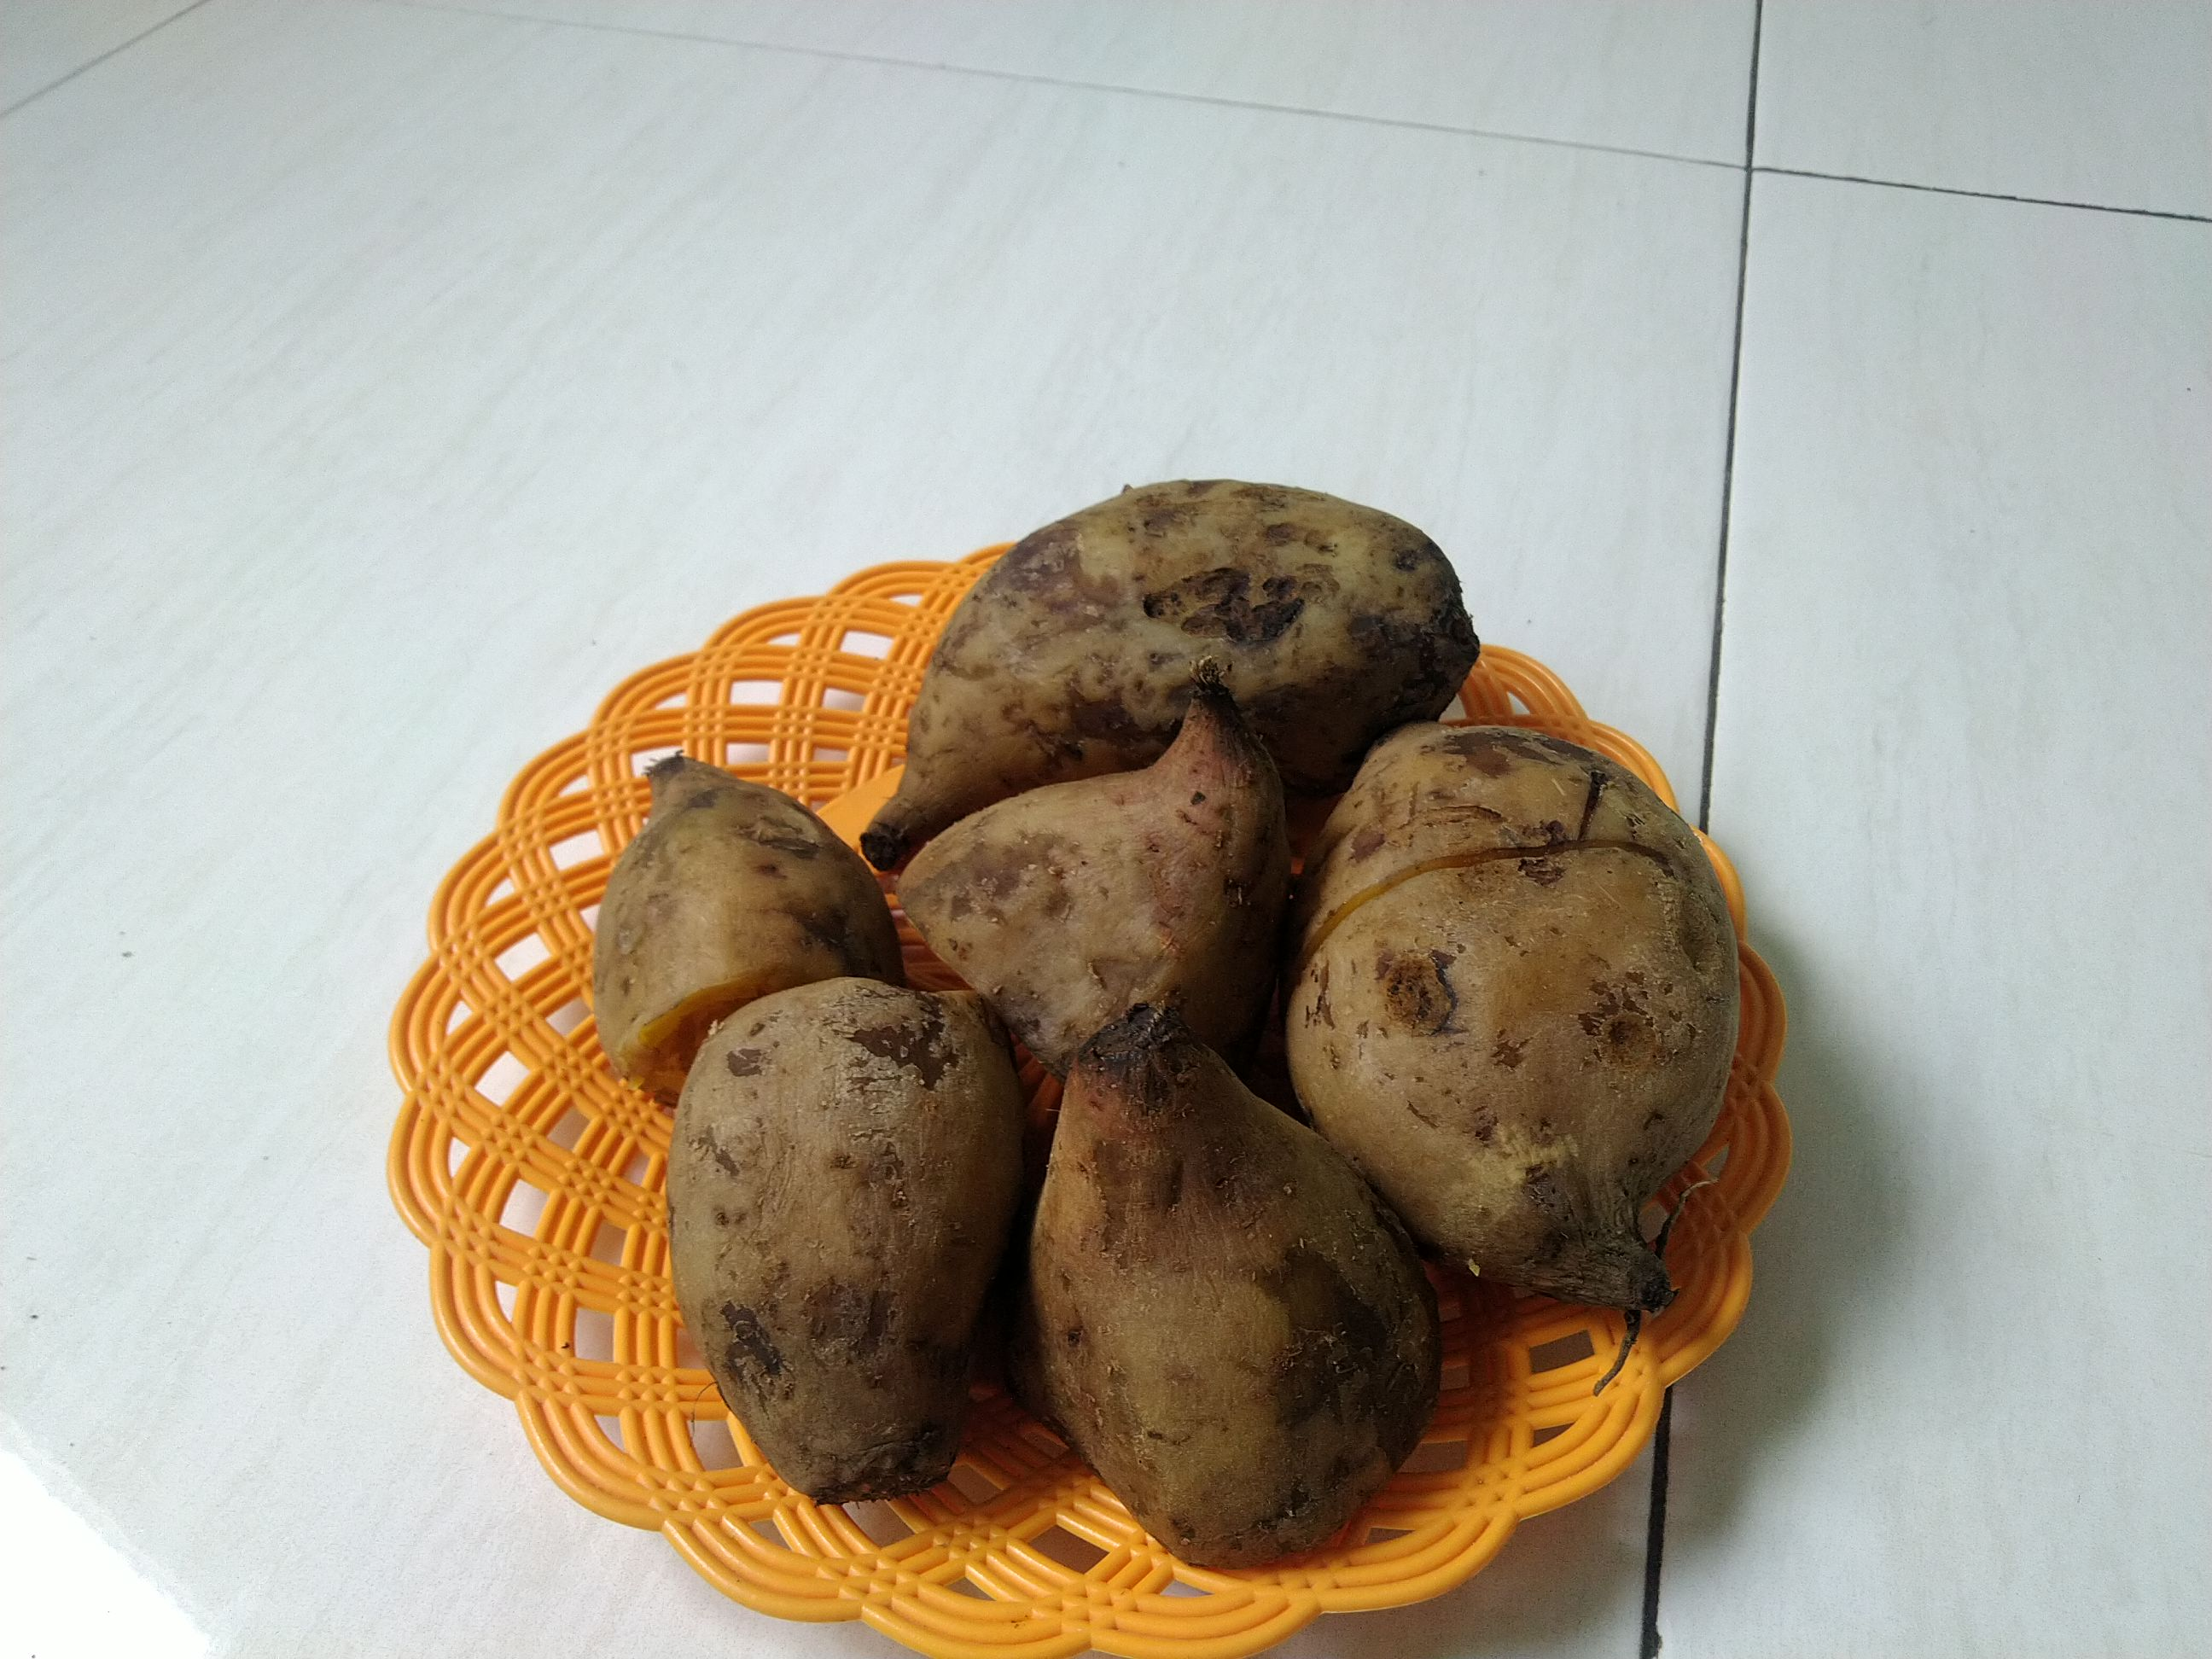ubi kuning: (859, 441, 1529, 871), (1291, 714, 1743, 1326), (1017, 986, 1461, 1579), (662, 974, 1012, 1513), (880, 667, 1303, 1068), (585, 739, 914, 1087)
